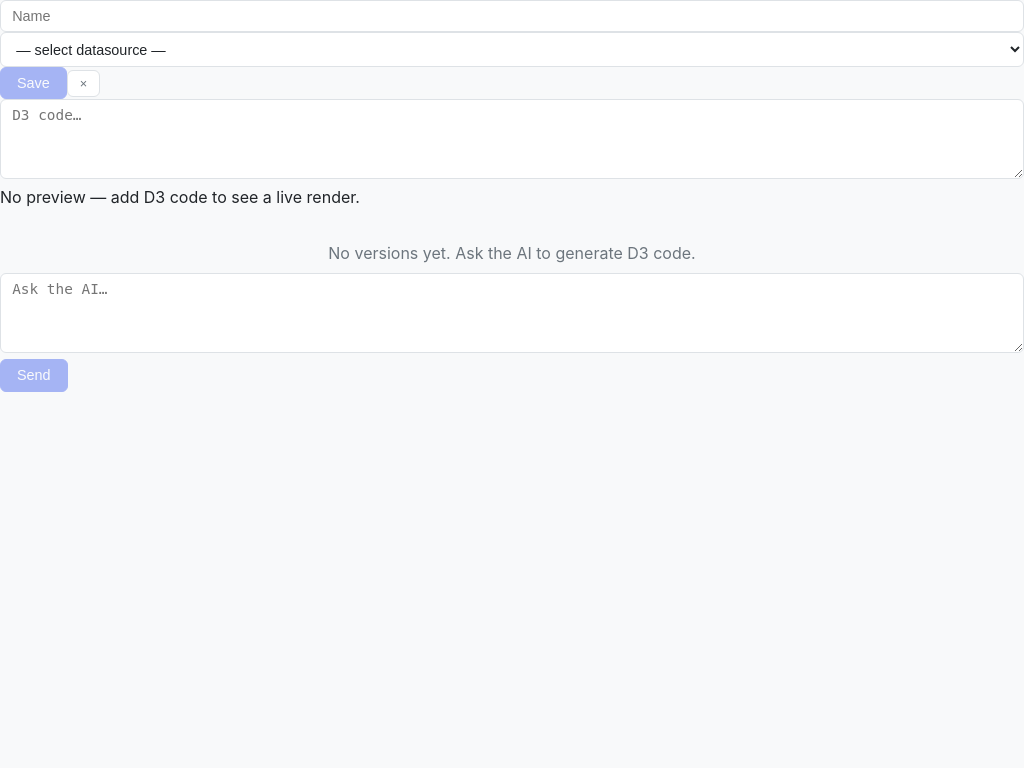
Scenario: ChartDialog › should update d3_code textarea when d3_code_update returned
Expected: the dialog is shown, [0,0,1023,392]
In the text box with placeholder "Ask the AI…": (512, 313) [0,273,1023,353], type "make a chart"
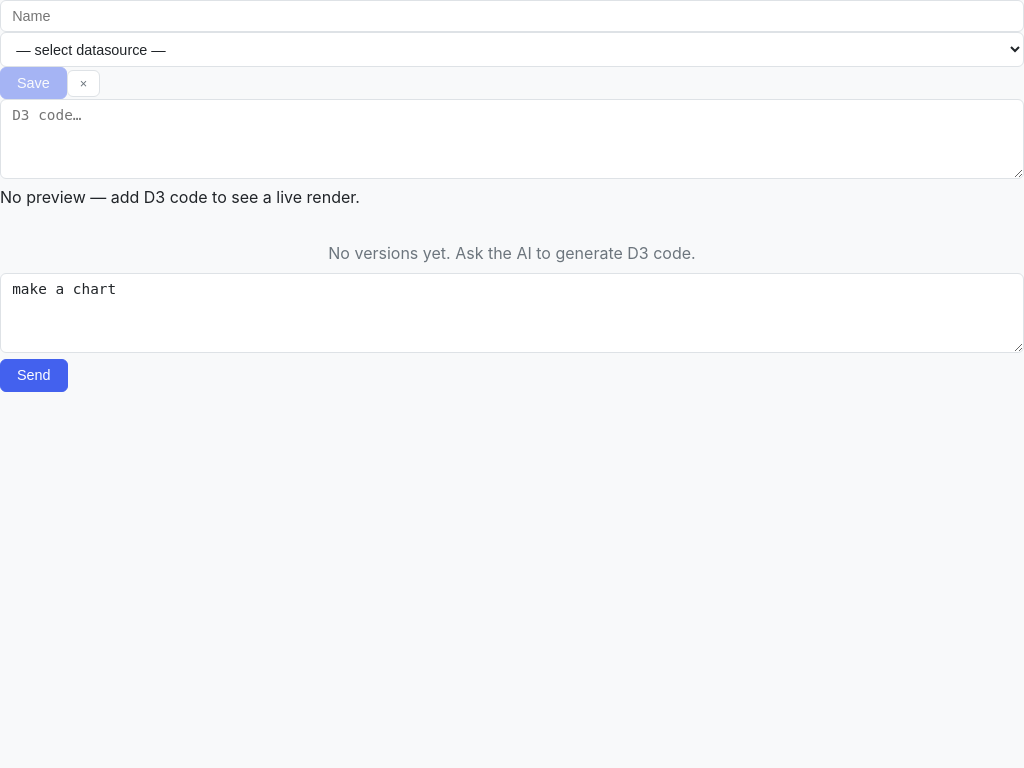
Click the button "Send": (34, 375) [0,359,68,392]
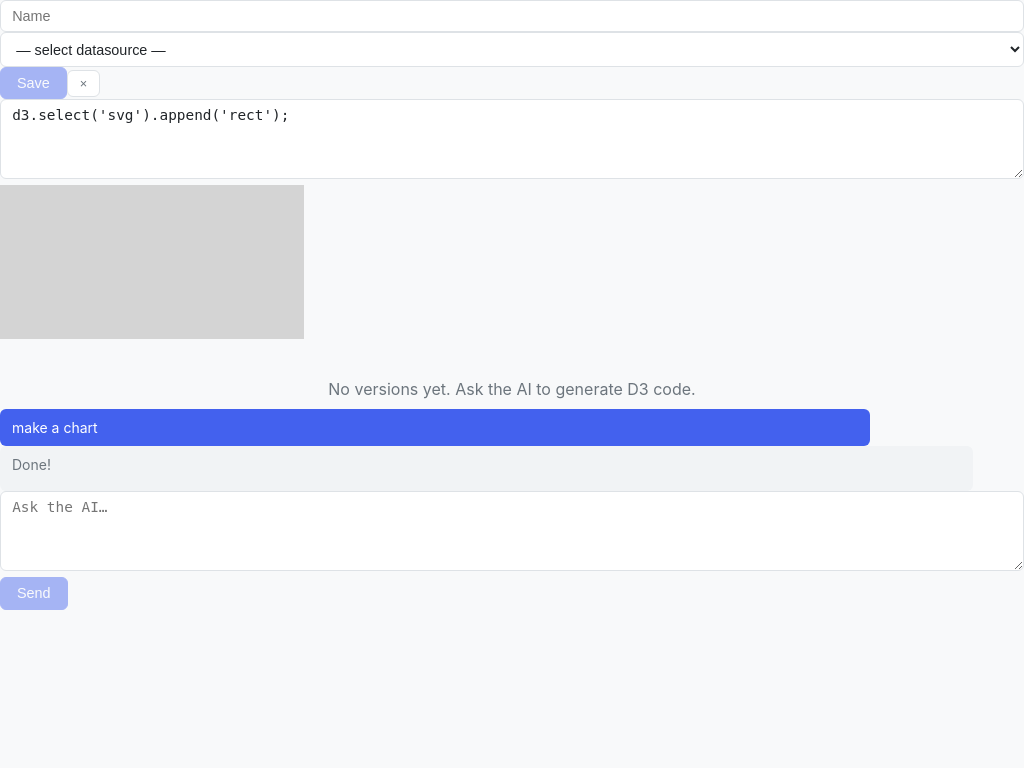
Result: the text box with placeholder "D3 code…" holds "d3.select('svg').append('rect');" at [0,99,1023,179]
